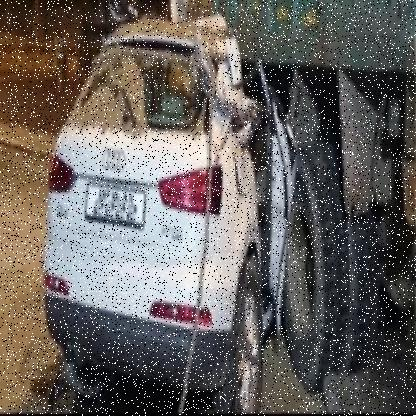licence: (84, 174, 141, 229)
